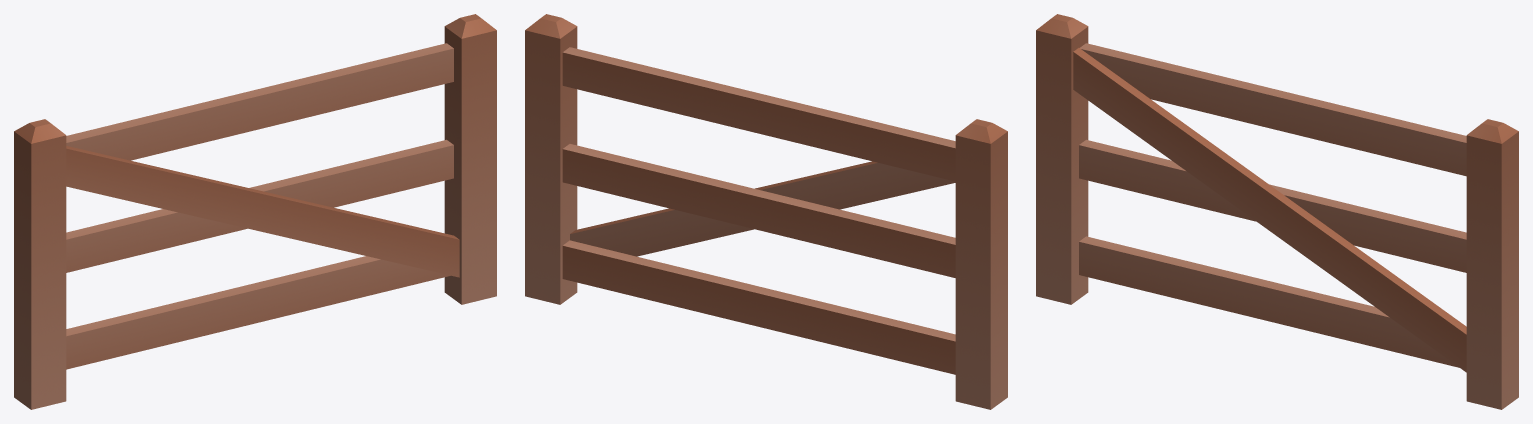
Rendered from fence.fbx.
3 views of the same model, side by side, from view 1: azimuth 30°, elevation 25°; view 2: azimuth 150°, elevation 25°; view 3: azimuth 330°, elevation 25° (orthographic).
Parts seen in each view (by area): view 1: Cube; view 2: Cube; view 3: Cube.
Part boxes in pixels (x1,y1,x2,y2): Cube: (14, 14, 496, 409); Cube: (525, 14, 1007, 409); Cube: (1036, 14, 1518, 409).
Size of the model in its own units: 203 by 115 by 12.97.
